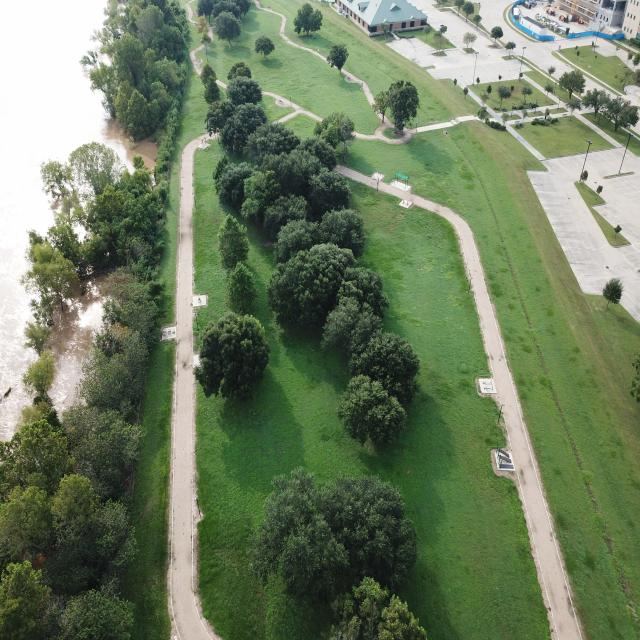fire: (0, 0, 156, 440), (50, 281, 101, 412)
